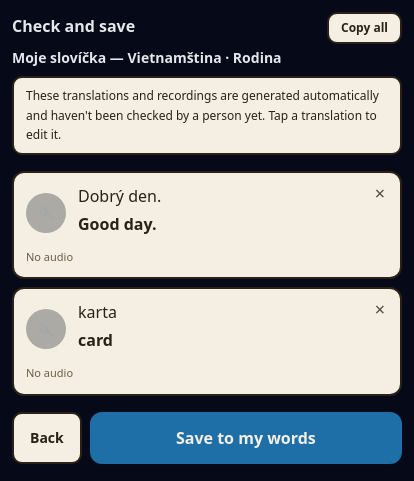
Test: ReviewStep › copies the whole set as source/translation pairs
Click the button "Copy all" at [364, 28], box left=327, top=12, right=402, bottom=44
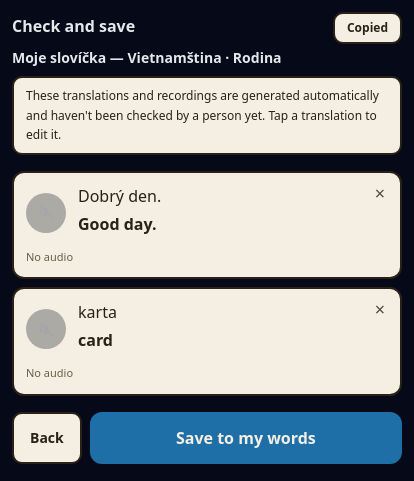
Result: the button "Copied" is shown at left=333, top=12, right=402, bottom=44
